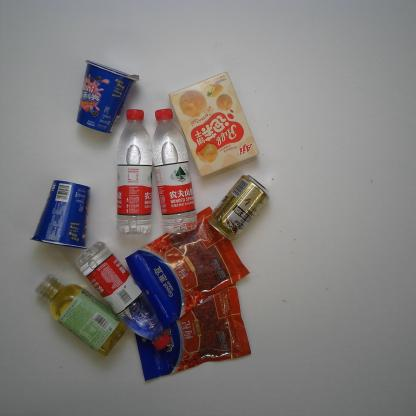Alcohol: (208, 174, 271, 240)
Dessert: (169, 71, 259, 177), (74, 57, 141, 136), (31, 176, 91, 250)
Dried Fruit: (122, 203, 253, 331), (135, 282, 251, 382)
Drink: (77, 240, 171, 351), (36, 275, 126, 355), (150, 108, 198, 234), (115, 108, 154, 236)
